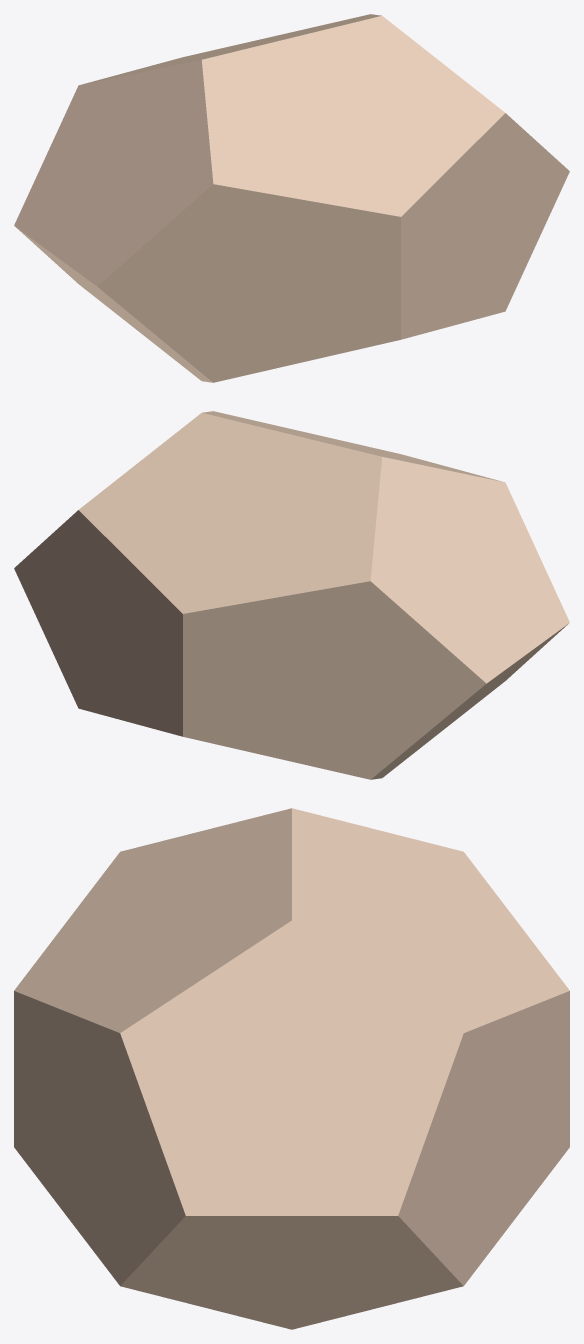
File: prop-rock.glb
The picture shows the model from 3 angles, top to bottom: view 1: azimuth 30°, elevation 25°; view 2: azimuth 150°, elevation 25°; view 3: azimuth 270°, elevation 25°; orthographic projection. The views are drawn at different scales.
Parts seen in each view (by area): view 1: rock; view 2: rock; view 3: rock.
Part boxes in pixels (<box>): rock: <box>14,14,569,382</box>; rock: <box>14,411,569,779</box>; rock: <box>14,808,569,1329</box>.
Size of the model in its own units: 1.87 by 1.21 by 1.49.
